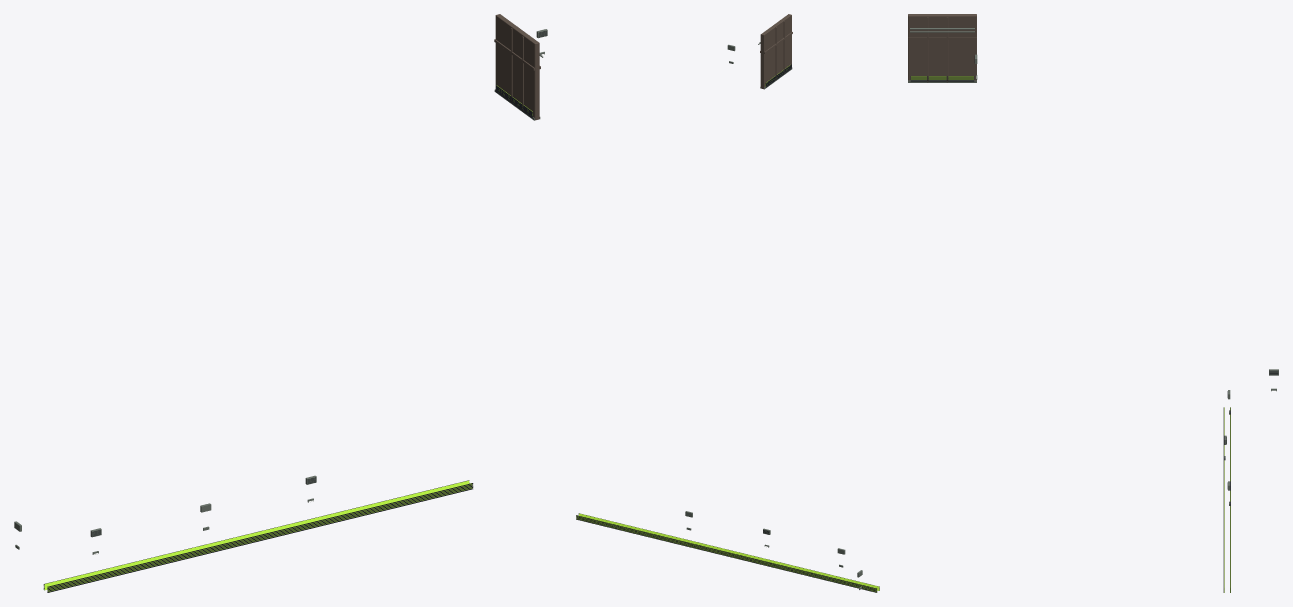
The picture shows the model from 3 angles, left to right: view 1: azimuth 30°, elevation 25°; view 2: azimuth 150°, elevation 25°; view 3: azimuth 270°, elevation 25°; orthographic projection. The views are drawn at different scales.
Visible parts, largest first — view 1: pm1_m2; view 2: pm1_m2; view 3: pm1_m2.
Part boxes in pixels (x1,y1,x2,y2): pm1_m2: (14,14,547,592); pm1_m2: (576,14,879,592); pm1_m2: (908,14,1278,592).
Size of the model in its own units: 43.7 by 59.35 by 37.75.
